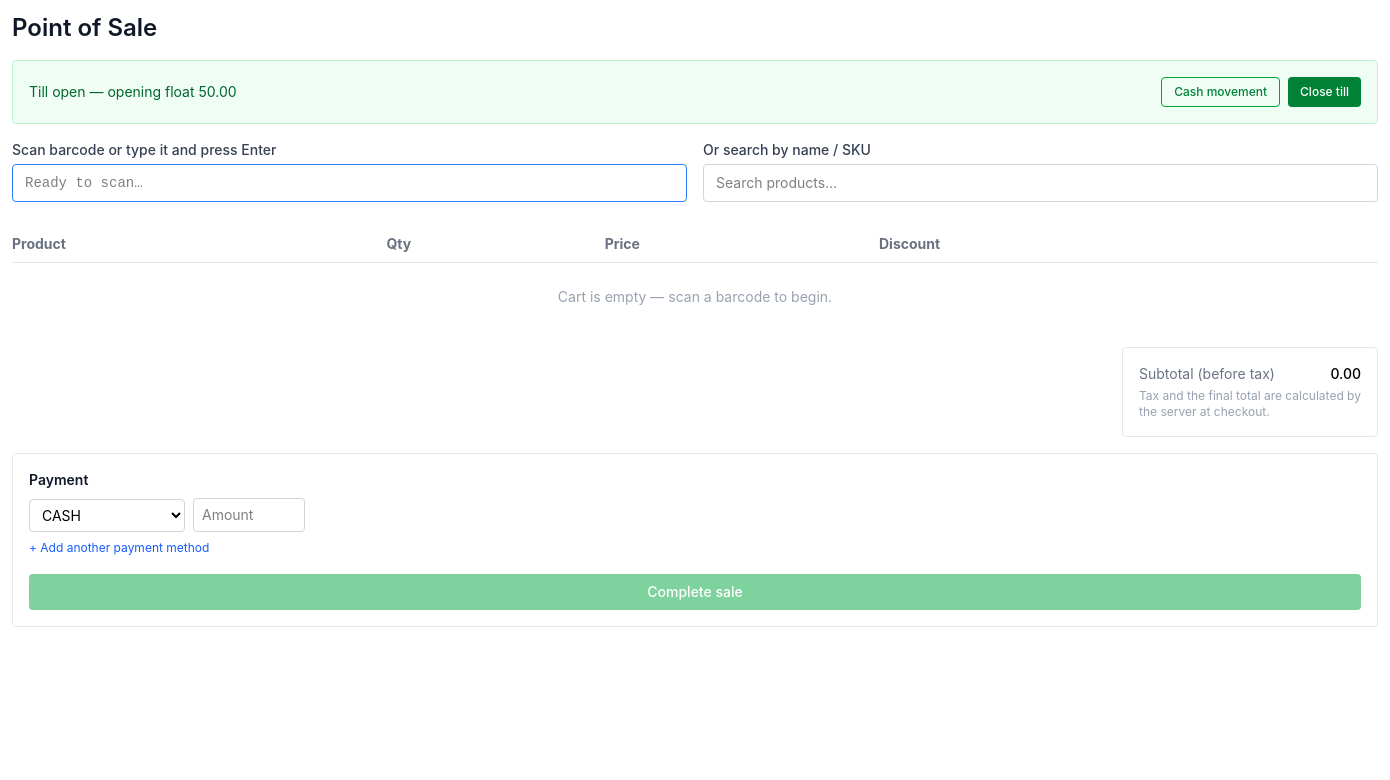
Scenario: PosPage shift panel › shows the active shift and closes it with a reported variance
expect the text "Till open — opening float 50.00" is shown: met, box [29,82,237,102]
Step 1. Click the button "Close till" → (1325, 92), box [1288,77,1361,107]
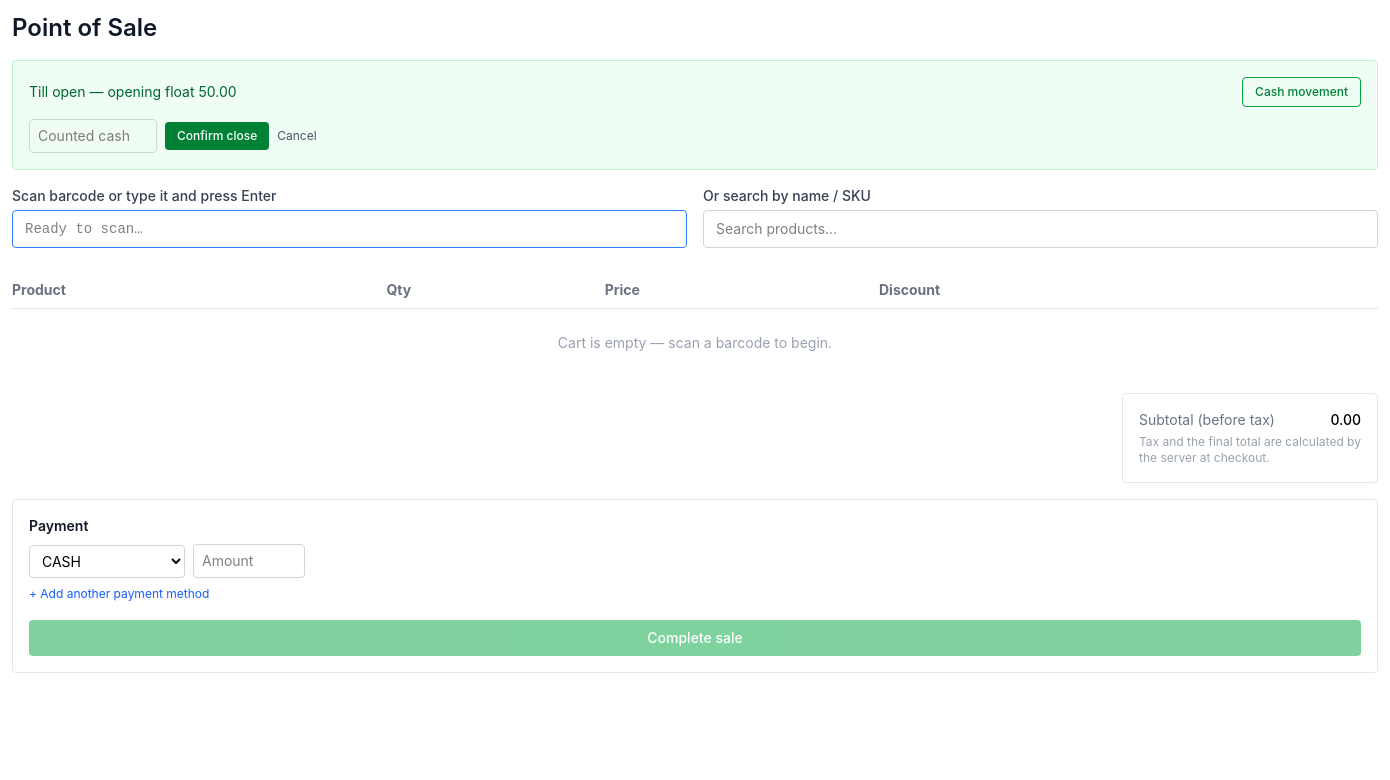
Step 2. Type "55.00" into the field with placeholder "Counted cash" → (93, 136), box [29,119,157,153]
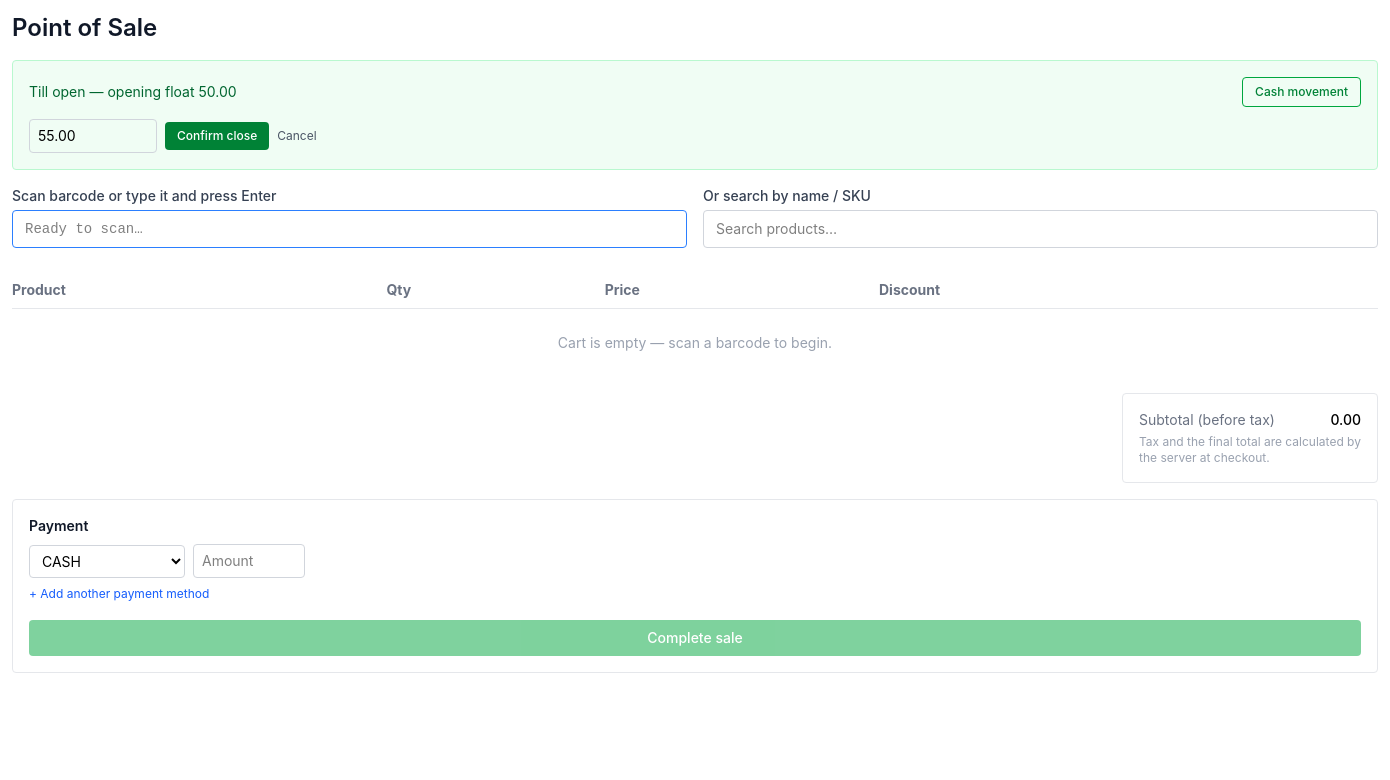
Step 3. Click the button "Confirm close" → (217, 136), box [165,122,269,150]
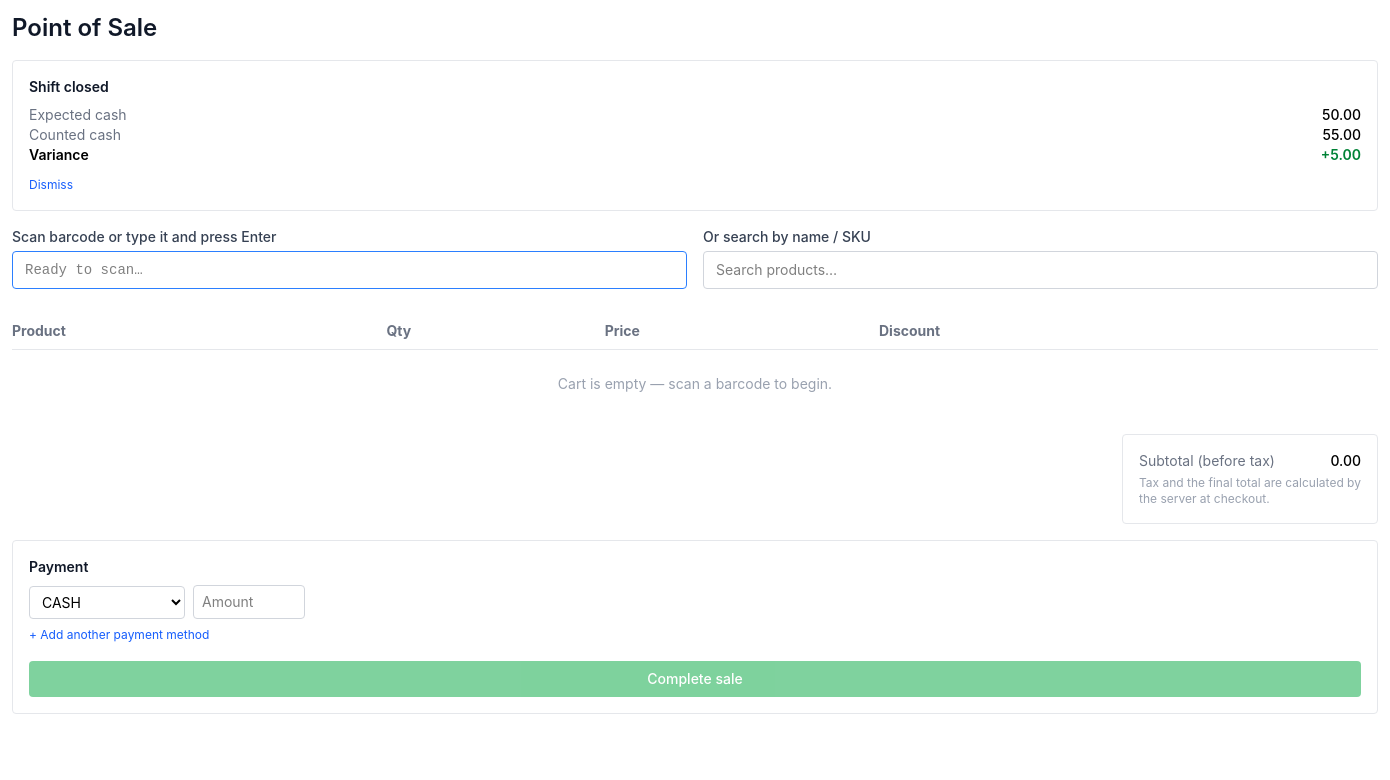
expect the heading "Shift closed" is shown: met, box [29,78,109,95]
expect the text "+5.00" is shown: met, box [1321,145,1361,165]
